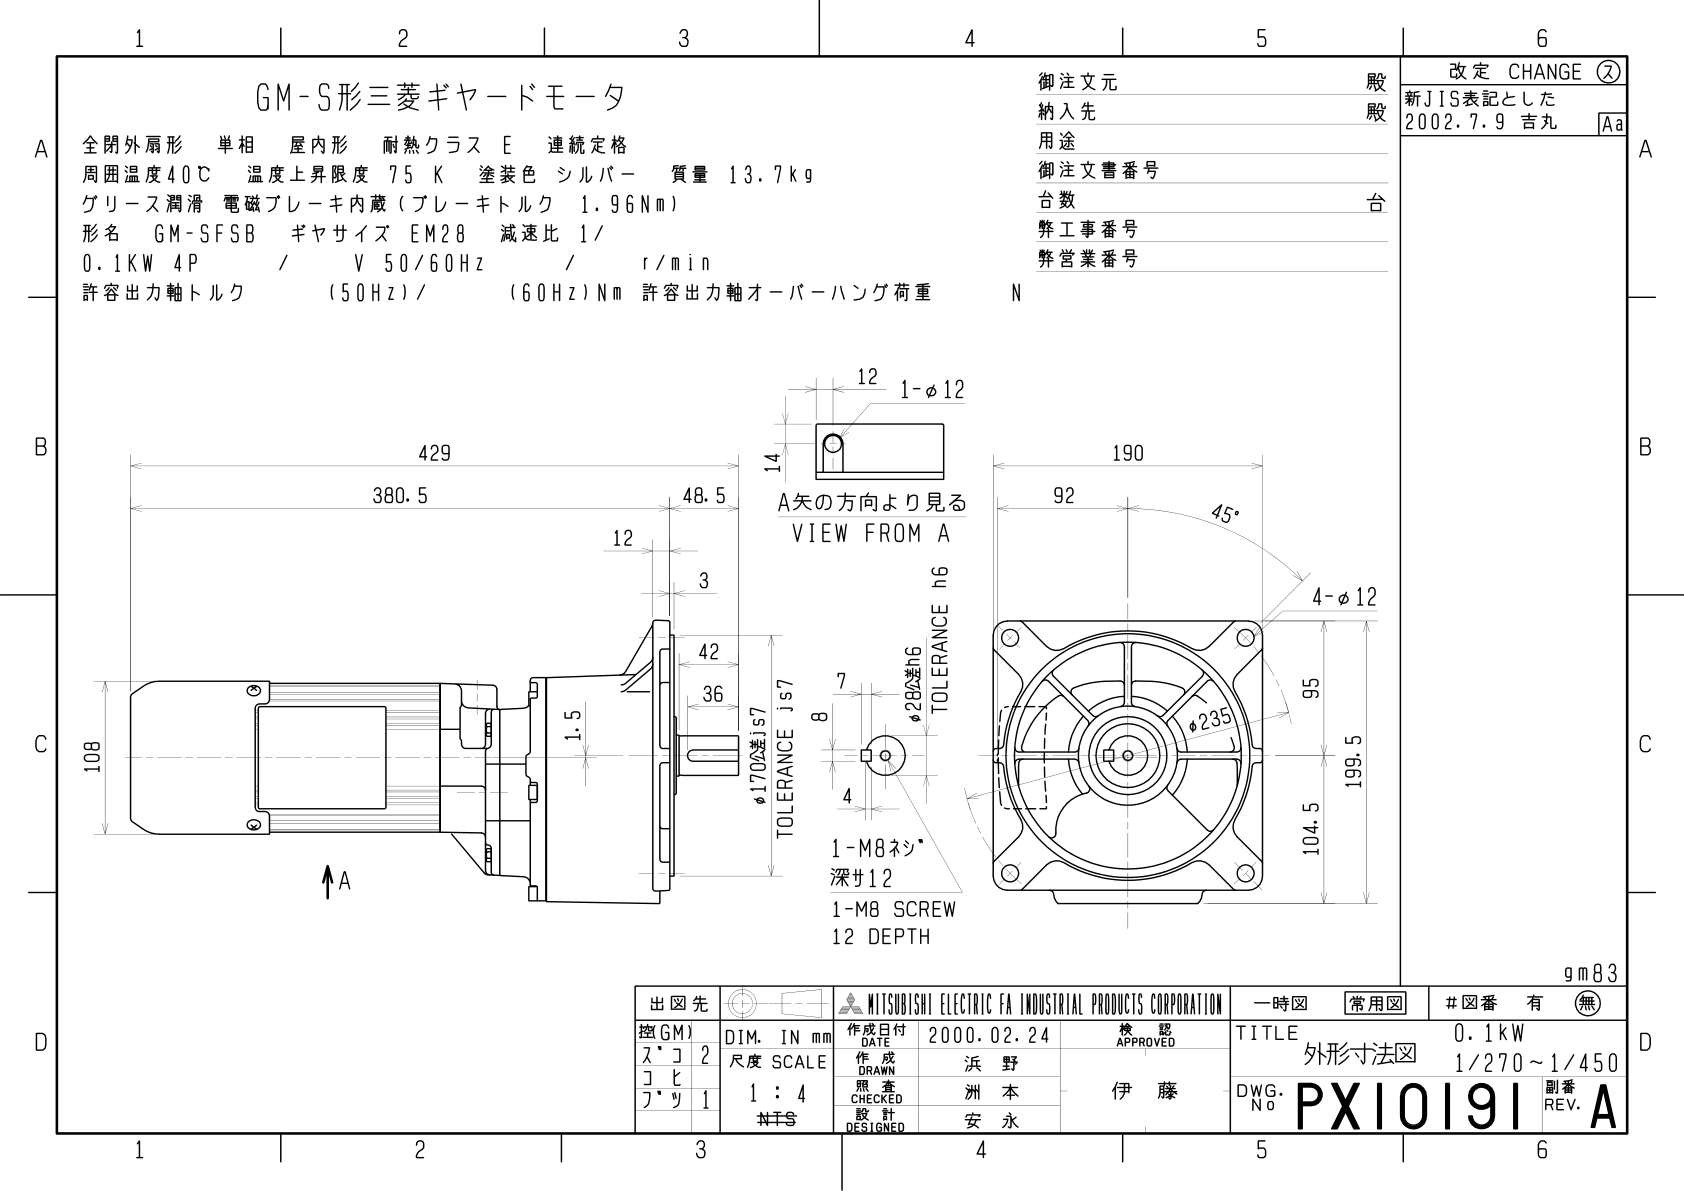GM_S_屋内＿単相_フランジ: (73, 339, 1395, 967)
